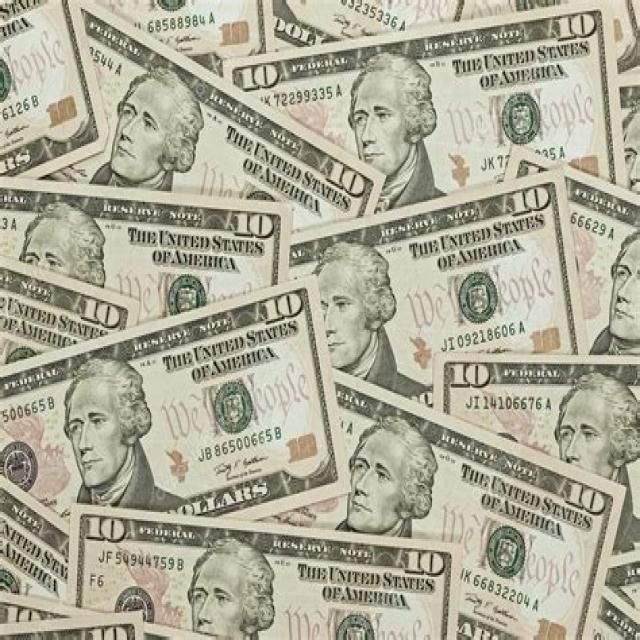Ten: (0, 272, 346, 534), (320, 367, 624, 640), (7, 5, 379, 226), (223, 0, 632, 189), (286, 164, 591, 413), (69, 507, 465, 640), (0, 179, 295, 333), (435, 354, 640, 546)
